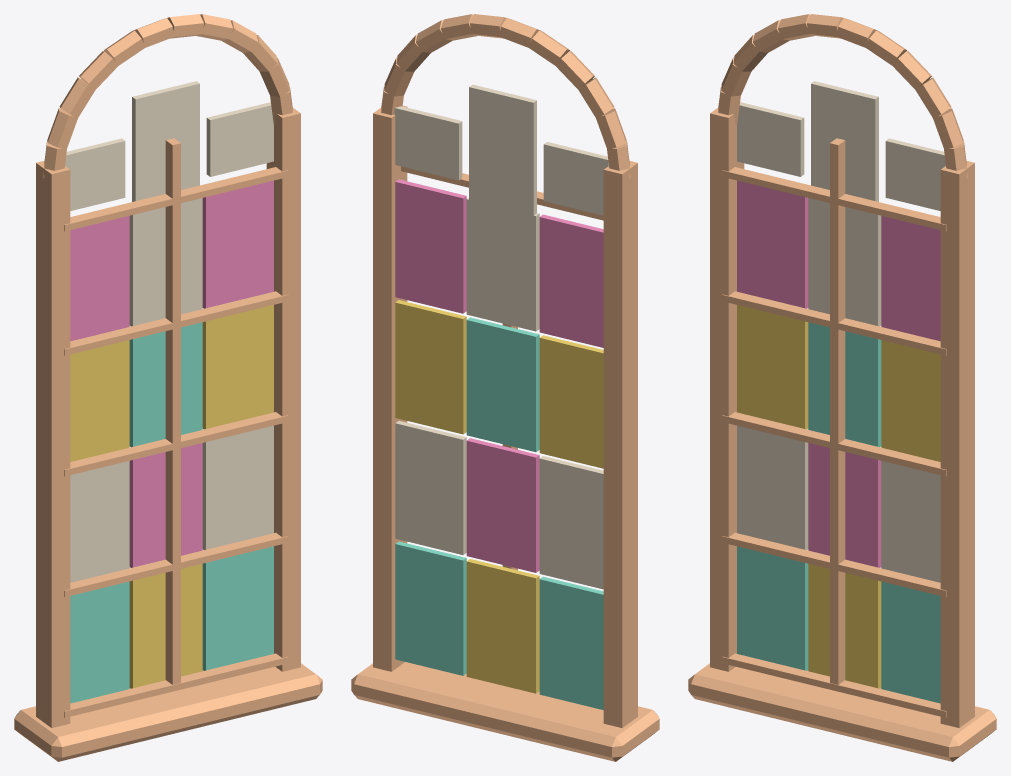
3 views of the same model, side by side, from view 1: azimuth 30°, elevation 25°; view 2: azimuth 150°, elevation 25°; view 3: azimuth 330°, elevation 25° (orthographic).
Parts seen in each view (by area): view 1: Arched window side, Arched window side.001, Panel base, Window mullion, Colored glass tile.011, Colored glass tile.008, Colored glass tile.009, Colored glass tile.010, Arch infill.001, Colored glass tile.003, Colored glass tile.007, Colored glass tile.002 (+23 smaller); view 2: Arched window side, Panel base, Arched window side.001, Arch infill.001, Colored glass tile.004, Colored glass tile.005, Colored glass tile.006, Colored glass tile.011, Colored glass tile.008, Colored glass tile.010, Colored glass tile.009, Colored glass tile.001 (+18 smaller); view 3: Arched window side.001, Arched window side, Panel base, Window mullion, Colored glass tile.003, Colored glass tile, Colored glass tile.001, Colored glass tile.002, Arch infill.001, Colored glass tile.011, Colored glass tile.010, Colored glass tile.008 (+23 smaller).
Boxes of the visible parts, bbox=[...] form: Arched window side: bbox=[36, 160, 70, 727]; Arched window side.001: bbox=[266, 107, 300, 671]; Panel base: bbox=[14, 663, 322, 761]; Window mullion: bbox=[165, 138, 180, 684]; Colored glass tile.011: bbox=[202, 180, 273, 308]; Colored glass tile.008: bbox=[202, 546, 273, 670]; Colored glass tile.009: bbox=[202, 425, 273, 549]; Colored glass tile.010: bbox=[202, 305, 273, 429]; Arch infill.001: bbox=[132, 81, 199, 233]; Colored glass tile.003: bbox=[70, 216, 129, 341]; Colored glass tile.007: bbox=[129, 198, 202, 326]; Colored glass tile.002: bbox=[70, 340, 129, 461]; Arched window side: bbox=[603, 160, 637, 727]; Panel base: bbox=[351, 662, 659, 761]; Arched window side.001: bbox=[373, 105, 407, 671]; Arch infill.001: bbox=[469, 84, 536, 237]; Colored glass tile.004: bbox=[466, 559, 539, 693]; Colored glass tile.005: bbox=[466, 438, 539, 572]; Colored glass tile.006: bbox=[466, 317, 539, 452]; Colored glass tile.011: bbox=[395, 179, 466, 313]; Colored glass tile.008: bbox=[395, 541, 466, 675]; Colored glass tile.010: bbox=[395, 300, 466, 434]; Colored glass tile.009: bbox=[395, 421, 466, 554]; Colored glass tile.001: bbox=[539, 456, 603, 589]; Arched window side.001: bbox=[940, 160, 974, 727]; Arched window side: bbox=[710, 107, 744, 671]; Panel base: bbox=[688, 663, 996, 761]; Window mullion: bbox=[830, 138, 845, 684]; Colored glass tile.003: bbox=[737, 180, 808, 308]; Colored glass tile: bbox=[737, 546, 808, 670]; Colored glass tile.001: bbox=[737, 425, 808, 549]; Colored glass tile.002: bbox=[737, 305, 808, 429]; Arch infill.001: bbox=[811, 81, 878, 233]; Colored glass tile.011: bbox=[881, 216, 940, 341]; Colored glass tile.010: bbox=[881, 340, 940, 461]; Colored glass tile.008: bbox=[881, 581, 940, 703].
Bounding box in the file's own units: 0.8 × 1.97 × 0.23.
Materials: 1 (1 with a texture image).
